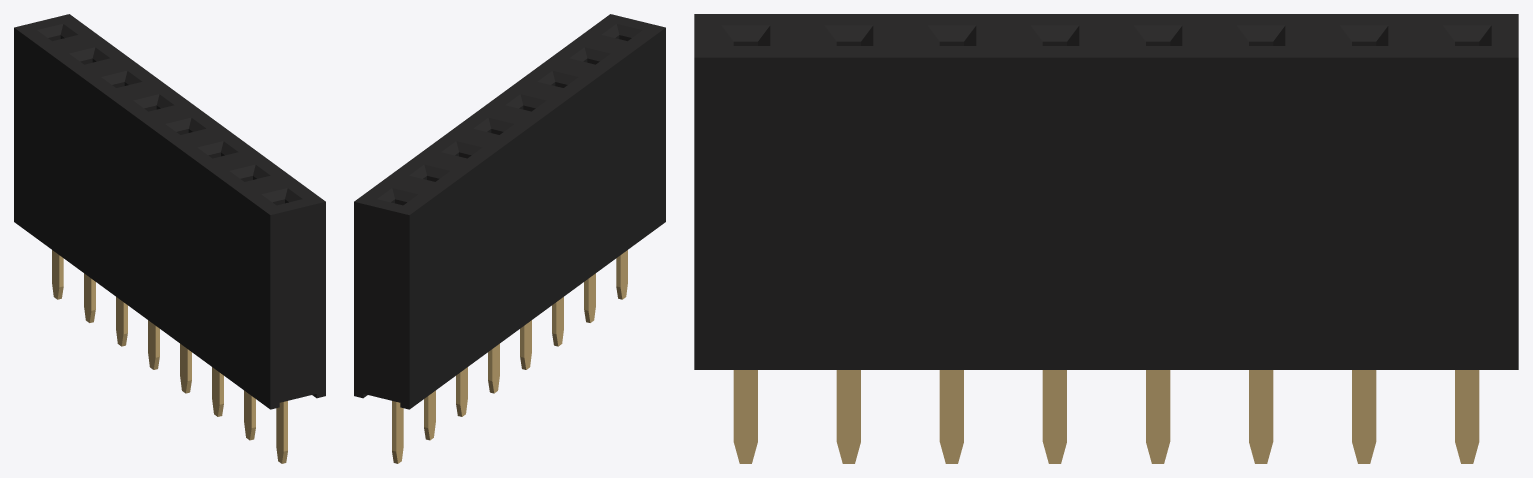
Rendered from pinsocket_1x08_p2_54mm_vertical.glb.
3 views of the same model, side by side, from view 1: azimuth 30°, elevation 25°; view 2: azimuth 150°, elevation 25°; view 3: azimuth 270°, elevation 25° (orthographic). The views are drawn at different scales.
Parts seen in each view (by area): view 1: socket_1x08, pin_8, pin_5, pin_4, pin_3, pin_6, pin_7, pin_1, pin_2; view 2: socket_1x08, pin_1, pin_4, pin_5, pin_2, pin_3, pin_6, pin_7, pin_8; view 3: socket_1x08, pin_1, pin_4, pin_5, pin_8, pin_2, pin_3, pin_6, pin_7.
Part boxes in pixels (x1,y1,x2,y2): socket_1x08: (14,14,325,409); pin_8: (276,401,287,463); pin_5: (180,343,191,393); pin_4: (148,320,159,369); pin_3: (116,297,127,346); pin_6: (212,367,223,416); pin_7: (244,390,255,440); pin_1: (52,250,63,299); pin_2: (84,273,95,322); socket_1x08: (354,14,665,409); pin_1: (392,401,403,463); pin_4: (488,343,499,393); pin_5: (520,320,531,369); pin_2: (424,390,435,440); pin_3: (456,367,467,416); pin_6: (552,297,563,346); pin_7: (584,273,595,322); pin_8: (616,250,627,299); socket_1x08: (694,14,1518,369); pin_1: (1455,370,1479,463); pin_4: (1146,370,1170,463); pin_5: (1042,370,1066,463); pin_8: (733,370,757,463); pin_2: (1352,370,1376,463); pin_3: (1249,370,1273,463); pin_6: (939,370,963,463); pin_7: (836,370,860,463).
Size of the model in its own units: 0.00254 by 0.0116 by 0.0203.
